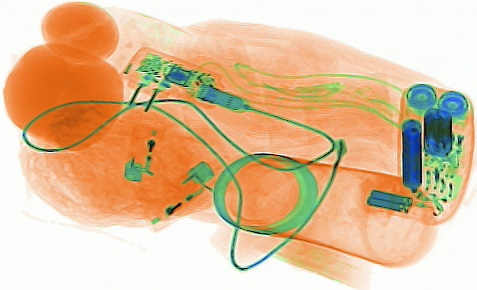lighter: (138, 159, 217, 232), (123, 119, 164, 182)
